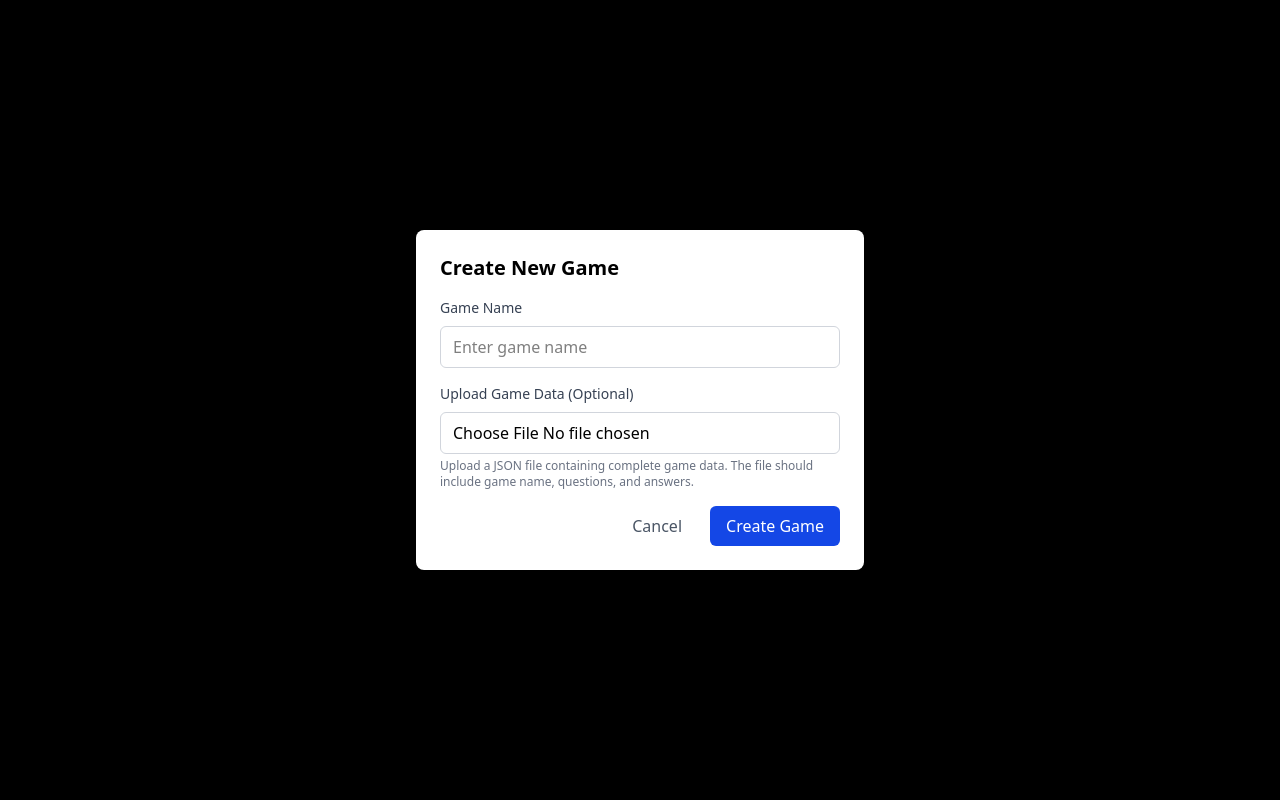
Test: CreateGameModal › shows validation error if game name is empty and form is submitted
Click the button "Create Game": (775, 526) [710,506,840,546]
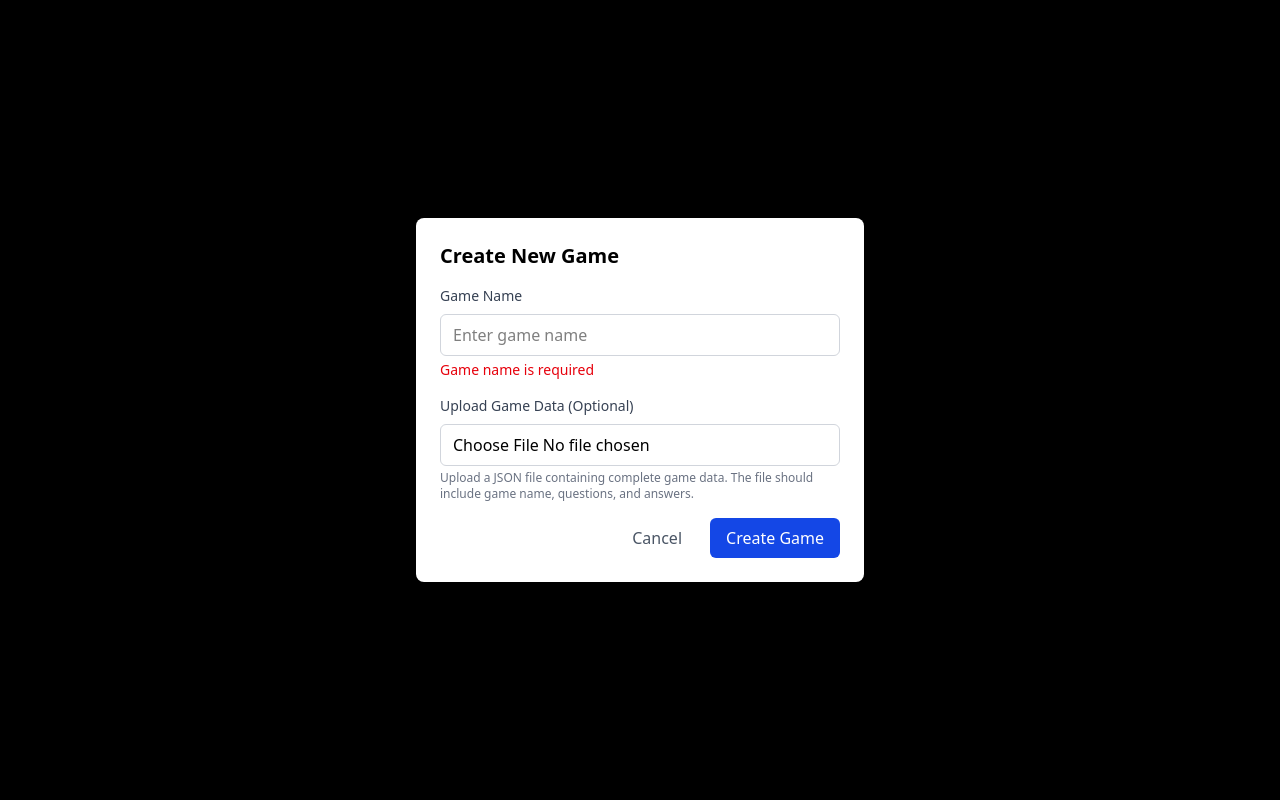
Expected: the text "Game name is required" is shown, [440,360,594,379]
